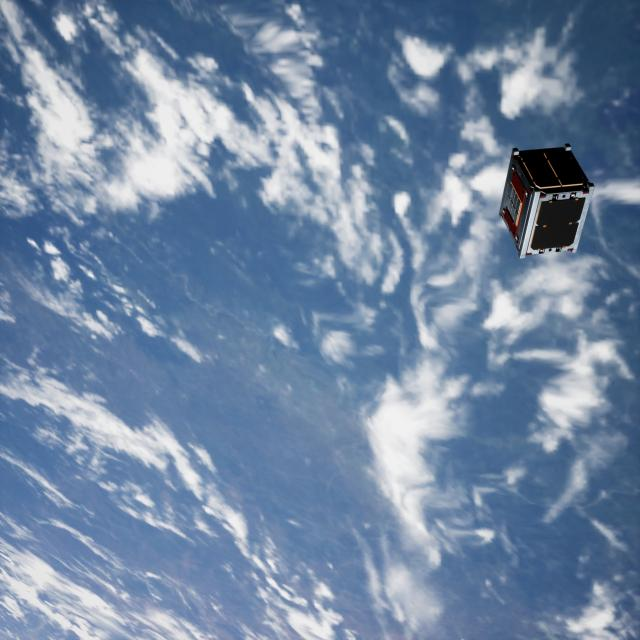satellite: (492, 145, 606, 261)
